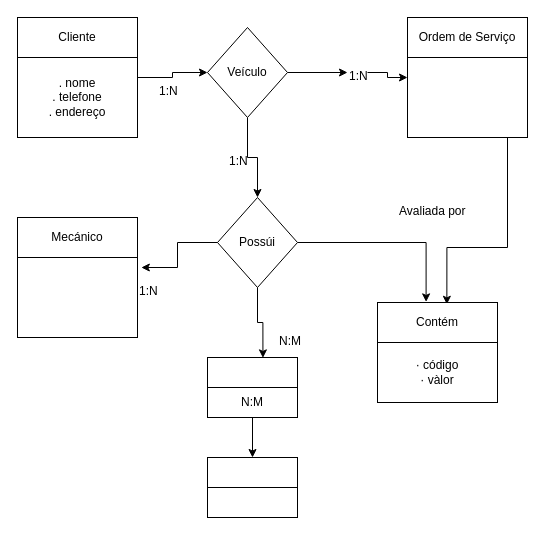
Image size: 545x535. Some labels were removed from this diagram. The centre of each missing label's shape, as x and y in pixels:
. nome · endereço · especialidade: the point at 77,297
especíalldade: the point at 252,502
Executa: the point at 252,372
Mecànco: the point at 252,472
· número · data Emissâo . valor Total · status · dataPrevista: the point at 467,97
